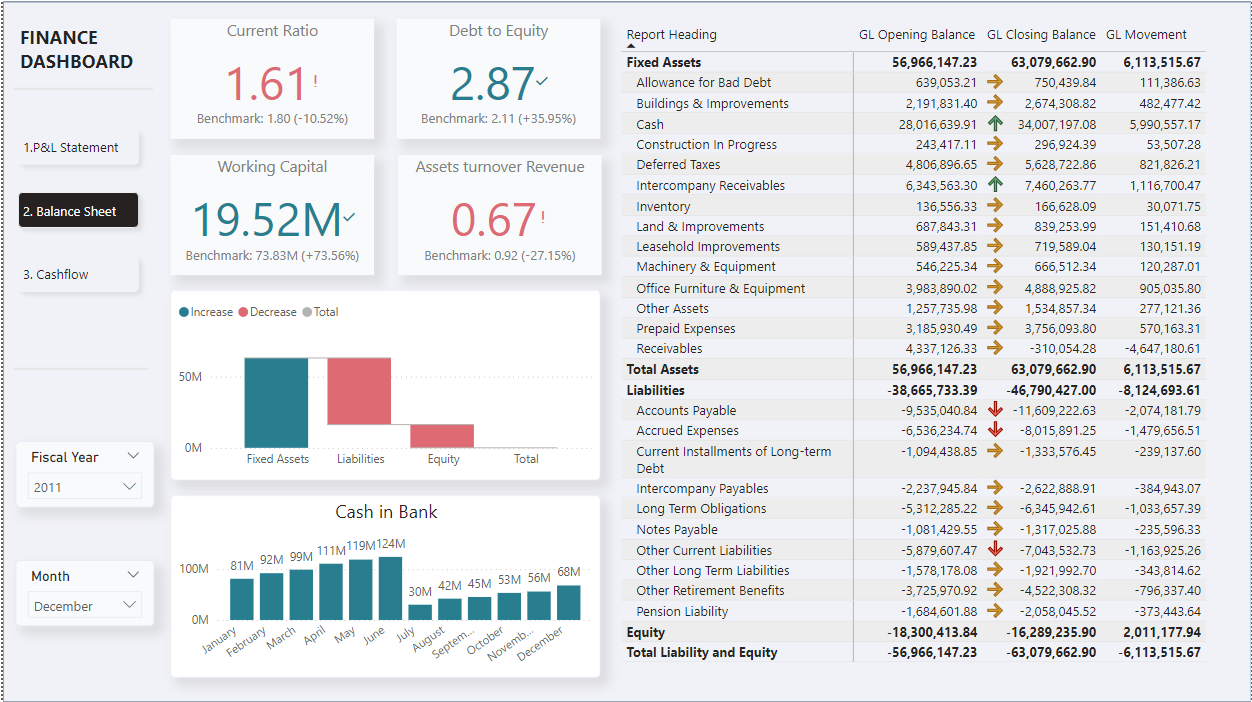

The page's visual inventory and layout, read from the dashboard file:
{"tool":"powerbi","page":{"name":"2. Balance Sheet","canvas":[1280,720],"ordinal":1},"visuals":[{"type":"shape","box":[0,0.8,1280.8,719.2],"z":1000},{"type":"pivotTable","fields":{"Rows":["Statement.Report Heading","Statement.Report Section"],"Values":["General Ledger.GL Opening Balance","General Ledger.GL Closing Balance","General Ledger.GL Movement"]},"box":[629.5,19.2,619.2,675.6],"z":3000},{"type":"lineStackedColumnComboChart","title":"Cash in Bank","fields":{"Y":["General Ledger.GL Closing Balance"],"Category":["Date.Month"]},"box":[171.8,507.7,441,187.2],"z":4000},{"type":"waterfallChart","title":"Cash in Bank","fields":{"Y":["General Ledger.GL Closing Balance"],"Category":["Statement.Report Heading"]},"box":[171.8,297.4,441,194.9],"z":5000},{"type":"kpi","title":"Current Ratio ","fields":{"Indicator":["General Ledger.Current Ratio"],"TrendLine":["Date.Month"],"Goal":["General Ledger.Current Ratio PM"]},"box":[171.3,19.2,209,123.1],"z":8000},{"type":"kpi","title":"Debt to Equity ","fields":{"Indicator":["General Ledger.Debt to Equity"],"TrendLine":["Date.Month"],"Goal":["General Ledger.Debt to Equity PM"]},"box":[403.8,19.2,209,123.1],"z":9000},{"type":"kpi","title":"Working Capital","fields":{"TrendLine":["Date.Month"],"Goal":["General Ledger.Working Capital"],"Indicator":["General Ledger.Working Capital1"]},"box":[172.3,159.5,209,123.1],"z":10000},{"type":"kpi","title":"Assets turnover Revenue","fields":{"Indicator":["General Ledger.Assets turnover Revenue"],"TrendLine":["Date.Month"],"Goal":["General Ledger.Assets turnover Revenue PM"]},"box":[404.9,159.5,209,123.1],"z":11000},{"type":"textbox","box":[11.5,19.2,137.2,82.1],"z":12000},{"type":"shape","box":[11.5,74.4,142.3,33.3],"z":13000},{"type":"slicer","fields":{"Values":["Date.Fiscal Year"]},"box":[12.3,452.8,142.3,67.9],"z":14000},{"type":"slicer","fields":{"Values":["Date.Month"]},"box":[12.3,574.6,142.3,67.9],"z":15000},{"type":"pageNavigator","box":[6.4,123.1,142.3,187.2],"z":16000},{"type":"shape","box":[11.5,361.5,137.2,33.3],"z":17000}]}

Visuals, with their boxes in screenshot pixels (x1, y1, x2, y2), scaled from the page's 1280x720 canvas onto the 1252x702 screenshot:
shape: region(0, 1, 1251, 701)
pivotTable - Statement.Report Heading x Statement.Report Section: region(616, 19, 1221, 677)
"Cash in Bank" lineStackedColumnComboChart: region(168, 495, 599, 678)
"Cash in Bank" waterfallChart: region(168, 290, 599, 480)
"Current Ratio " kpi: region(168, 19, 372, 139)
"Debt to Equity " kpi: region(395, 19, 599, 139)
"Working Capital" kpi: region(169, 156, 373, 276)
"Assets turnover Revenue" kpi: region(396, 156, 600, 276)
textbox: region(11, 19, 145, 99)
shape: region(11, 73, 150, 105)
slicer - Date.Fiscal Year: region(12, 441, 151, 508)
slicer - Date.Month: region(12, 560, 151, 626)
pageNavigator: region(6, 120, 145, 303)
shape: region(11, 352, 145, 385)
